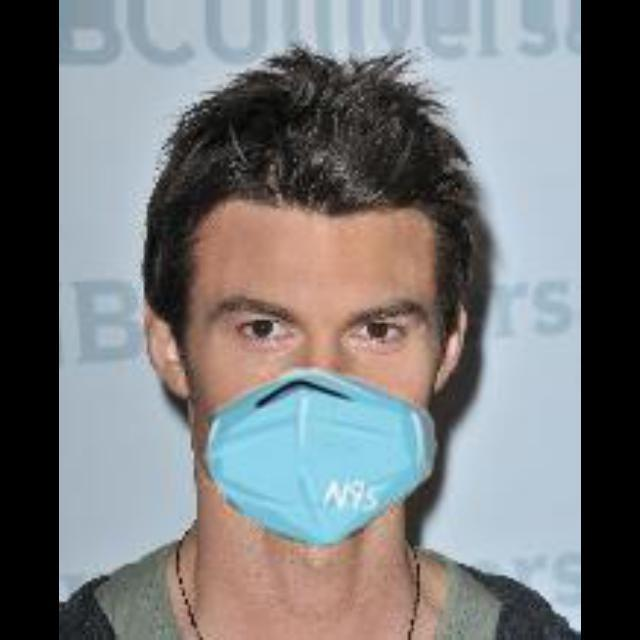suspicion: (154, 118, 480, 522)
